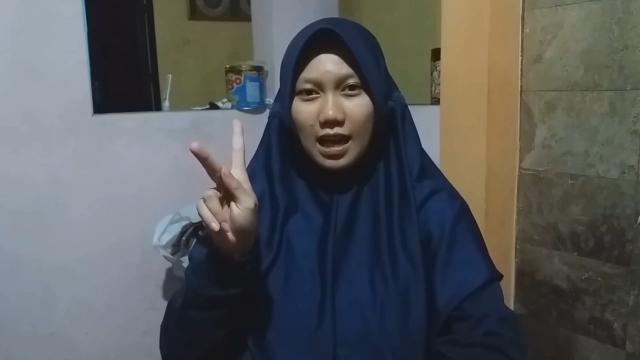K: (187, 114, 267, 266)
